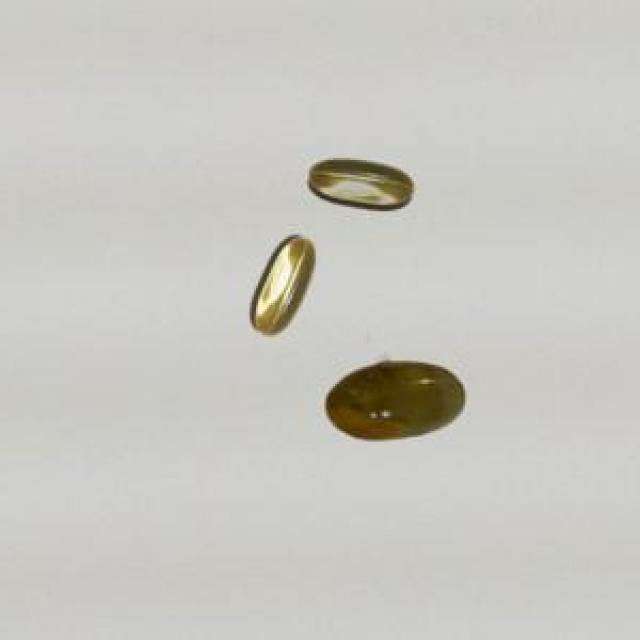Fish_Oil: (317, 350, 472, 448), (300, 138, 416, 220), (240, 226, 322, 341)
